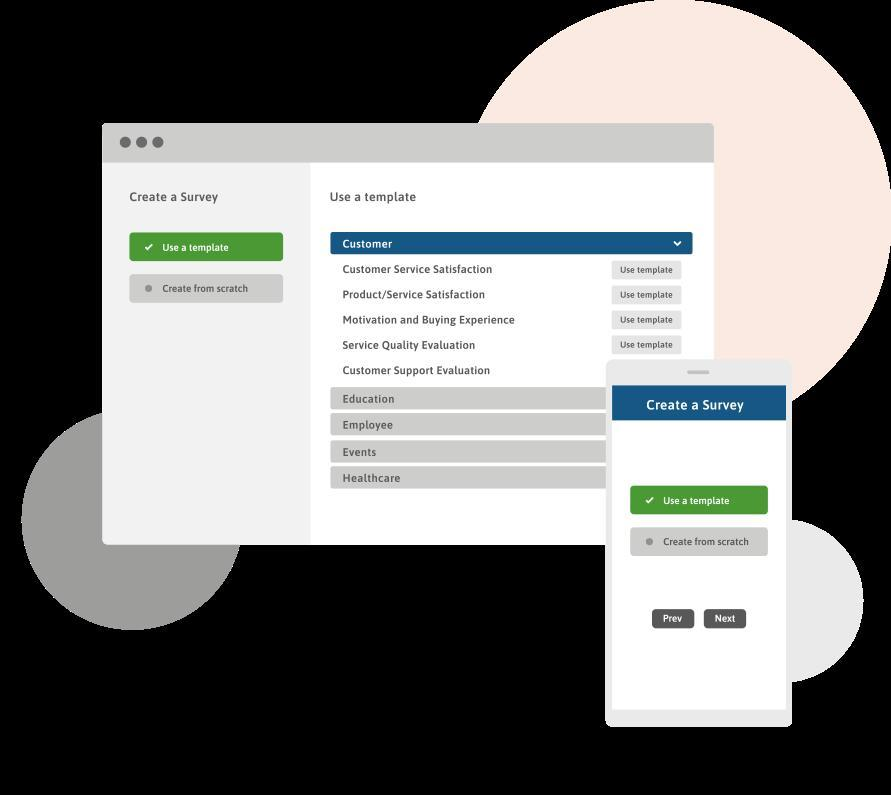button: (130, 233, 284, 263), (130, 275, 284, 304), (631, 486, 770, 517), (631, 529, 770, 558), (612, 311, 683, 331), (612, 261, 682, 280), (613, 336, 683, 355), (612, 287, 684, 305), (652, 610, 697, 630), (704, 610, 748, 630)
dropdown: (332, 233, 694, 255)
label: (341, 313, 518, 329), (343, 288, 487, 304), (343, 265, 496, 280), (342, 363, 492, 378), (342, 339, 477, 354)
